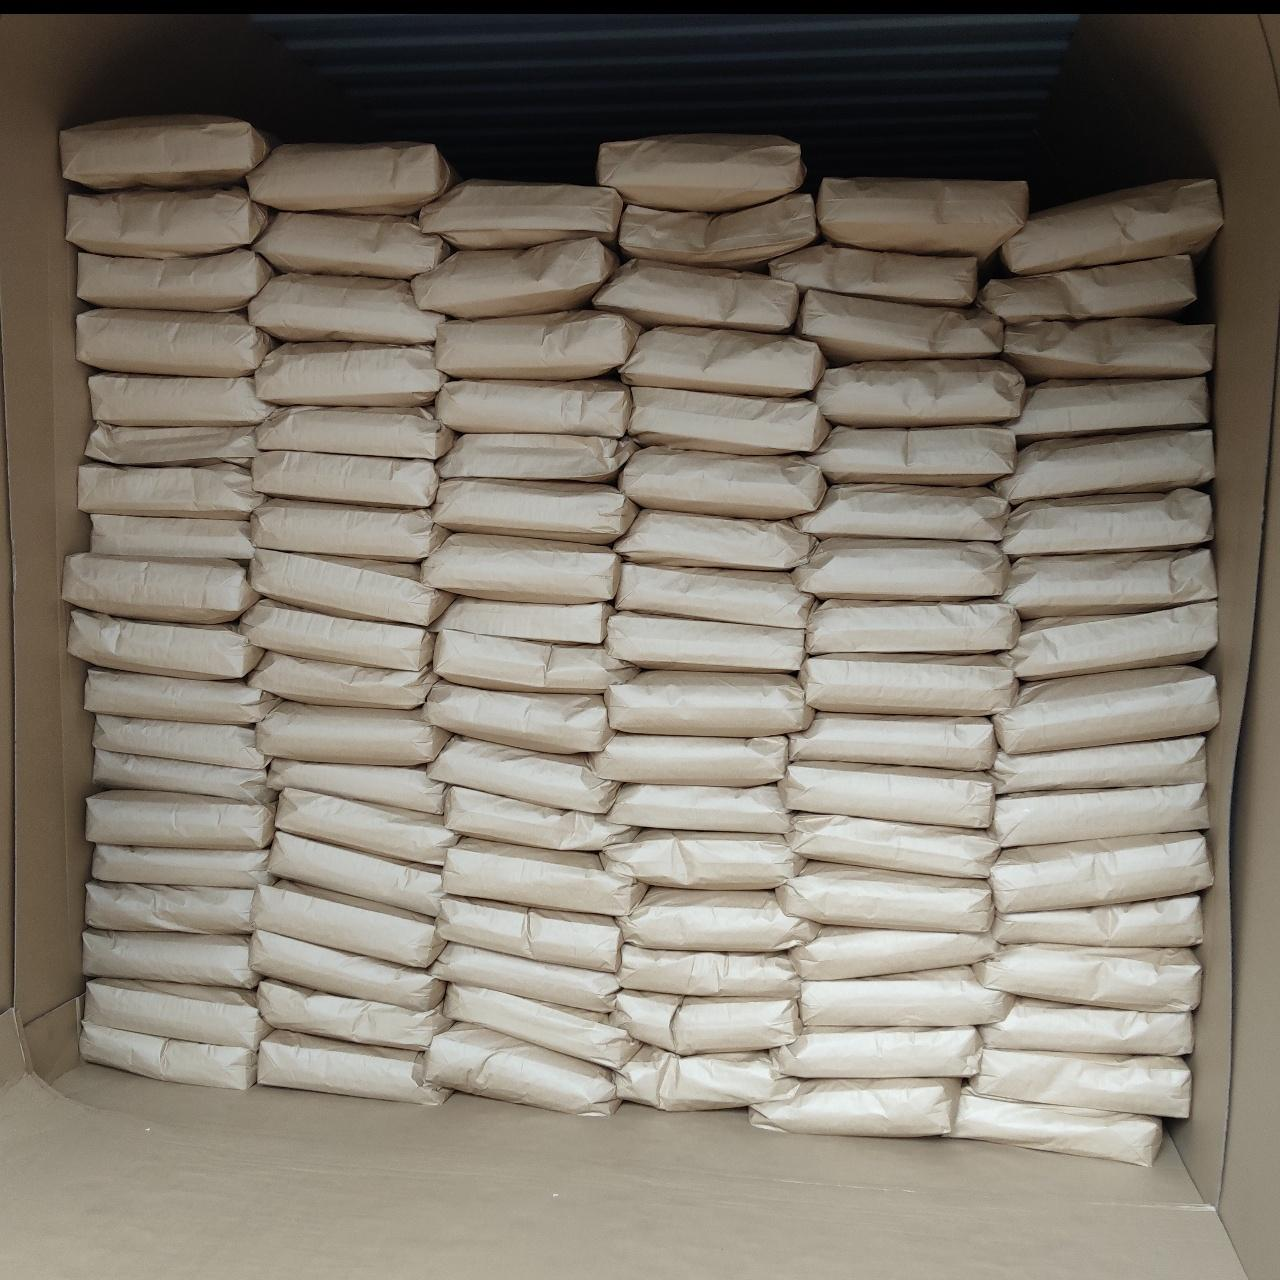sack: (1002, 180, 1223, 274), (992, 666, 1218, 753), (989, 832, 1212, 913), (424, 1024, 617, 1117), (817, 178, 1028, 260), (410, 237, 618, 318), (950, 1087, 1162, 1165), (252, 880, 442, 967), (444, 983, 637, 1068), (1004, 602, 1217, 678), (998, 429, 1213, 504), (442, 837, 645, 916), (597, 135, 804, 211), (796, 289, 1003, 364), (776, 862, 992, 933), (250, 549, 449, 626), (251, 930, 442, 1010), (61, 116, 270, 189), (593, 259, 799, 333), (969, 1048, 1189, 1117), (246, 142, 456, 214), (1001, 549, 1216, 619), (972, 945, 1199, 1011), (618, 446, 825, 518), (270, 831, 441, 917), (979, 256, 1195, 324), (428, 736, 617, 813), (1002, 488, 1212, 557), (989, 781, 1208, 847), (257, 1030, 452, 1104), (813, 359, 1025, 427), (66, 187, 269, 258), (436, 310, 640, 380), (621, 326, 825, 396), (619, 194, 816, 266), (779, 762, 993, 828), (419, 180, 622, 249), (437, 895, 621, 971), (785, 813, 999, 878), (239, 599, 433, 670), (1002, 317, 1212, 382), (605, 671, 813, 736), (249, 273, 442, 343), (628, 387, 829, 454), (64, 554, 258, 623), (68, 610, 262, 679), (258, 980, 449, 1050), (77, 308, 273, 376), (422, 535, 618, 603), (423, 683, 613, 753), (799, 654, 1017, 715), (433, 629, 636, 694), (792, 539, 1008, 600), (277, 789, 455, 863), (252, 212, 450, 278), (770, 243, 977, 306), (1009, 377, 1208, 442), (800, 966, 1012, 1027), (432, 480, 637, 543), (432, 943, 619, 1012), (981, 994, 1192, 1055), (615, 563, 812, 628), (85, 979, 267, 1049), (618, 887, 818, 950), (612, 988, 800, 1055), (989, 736, 1206, 794), (751, 1078, 961, 1137), (80, 1019, 256, 1089), (257, 702, 449, 766), (446, 787, 636, 851), (78, 249, 273, 311), (615, 509, 815, 569), (806, 599, 1020, 655), (251, 499, 447, 560), (605, 612, 804, 672), (795, 485, 1008, 541), (602, 830, 804, 889), (255, 342, 444, 405), (810, 426, 1015, 484), (789, 713, 997, 770), (616, 1045, 797, 1110), (789, 926, 996, 980), (992, 894, 1202, 947), (436, 380, 630, 437), (86, 790, 272, 849), (771, 1026, 980, 1078), (248, 651, 435, 709), (84, 669, 275, 724), (255, 407, 453, 460), (252, 451, 438, 507), (79, 464, 264, 520), (83, 930, 258, 988), (593, 734, 788, 786), (618, 942, 799, 997), (93, 748, 274, 802), (267, 759, 444, 814), (90, 373, 272, 425), (438, 434, 634, 482), (92, 715, 266, 769), (85, 880, 253, 934), (608, 785, 788, 833), (430, 597, 612, 644), (92, 844, 275, 889), (91, 515, 254, 560), (85, 424, 256, 464)
